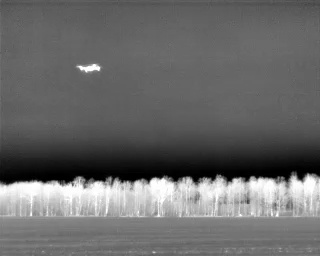DRONE: (73, 59, 106, 78)
